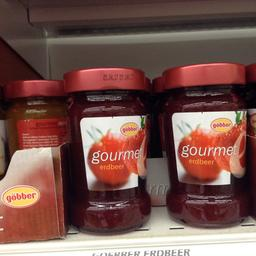jam: (61, 65, 152, 233), (161, 62, 248, 228), (6, 79, 62, 159)
